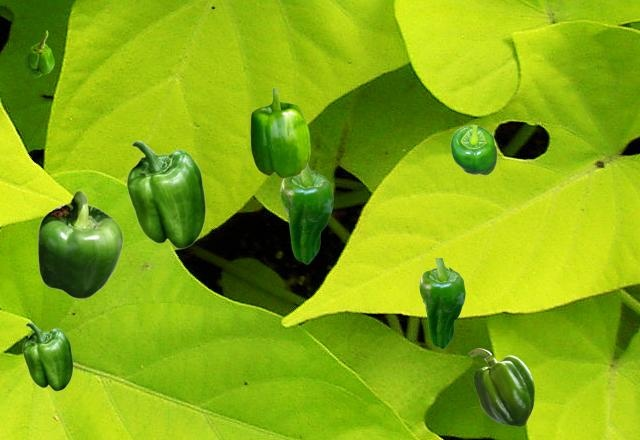bell_pepper: (37, 190, 122, 298), (126, 140, 205, 248), (250, 87, 309, 177), (280, 164, 332, 263), (468, 348, 533, 425), (419, 258, 464, 348), (22, 322, 72, 390), (450, 124, 496, 174), (24, 30, 53, 76)
